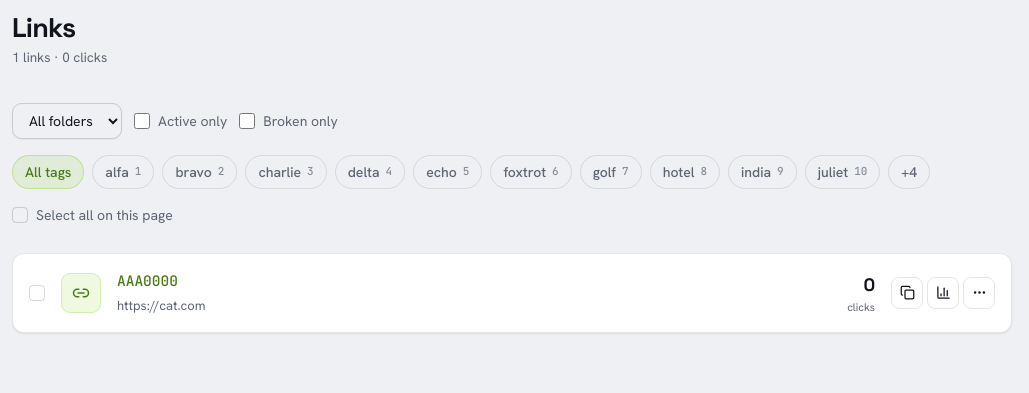
Test: Links › round-trip: expand tag chips, then collapse back to the capped view (+N button returns)
Expected: the button "show less" is not shown
Click the button "+4" at coordinates (909, 172), box [888,155,930,189]
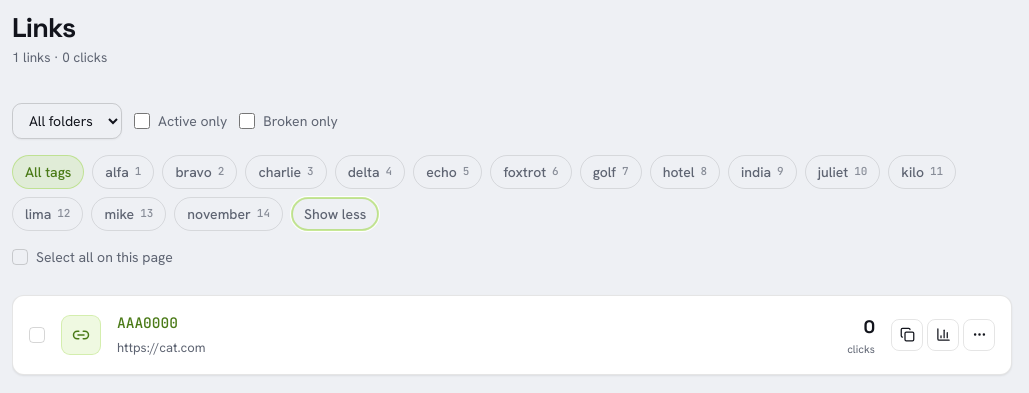
Result: the button "Show less" is shown
Result: the button "+4" is gone
Click the button "Show less" at coordinates (335, 214), box [291,197,379,231]
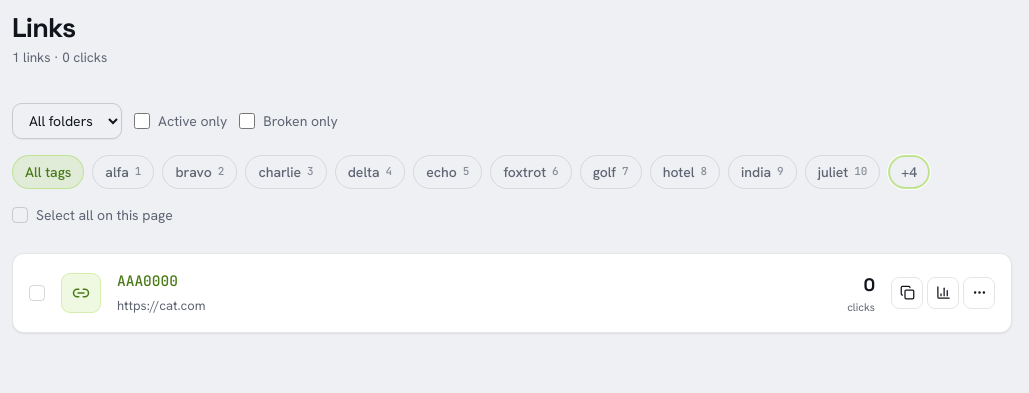
Result: the button "+4" is shown at [888,155,930,189]
Result: the button "Show less" is gone
